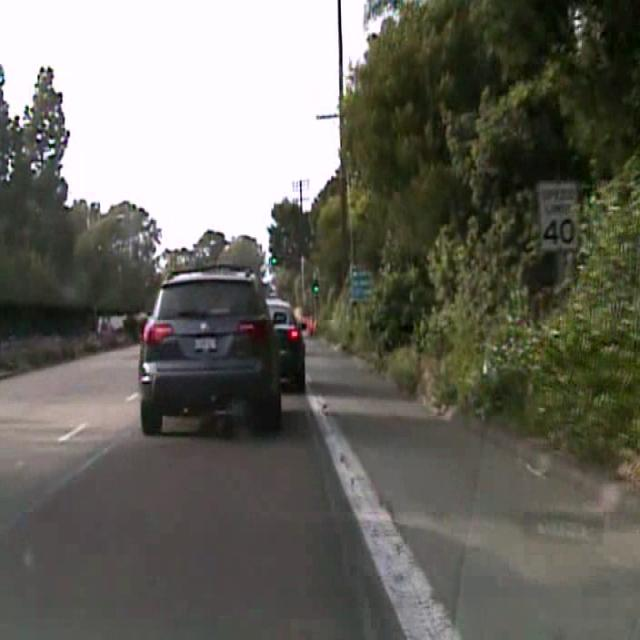40 MPH: (536, 184, 584, 250)
